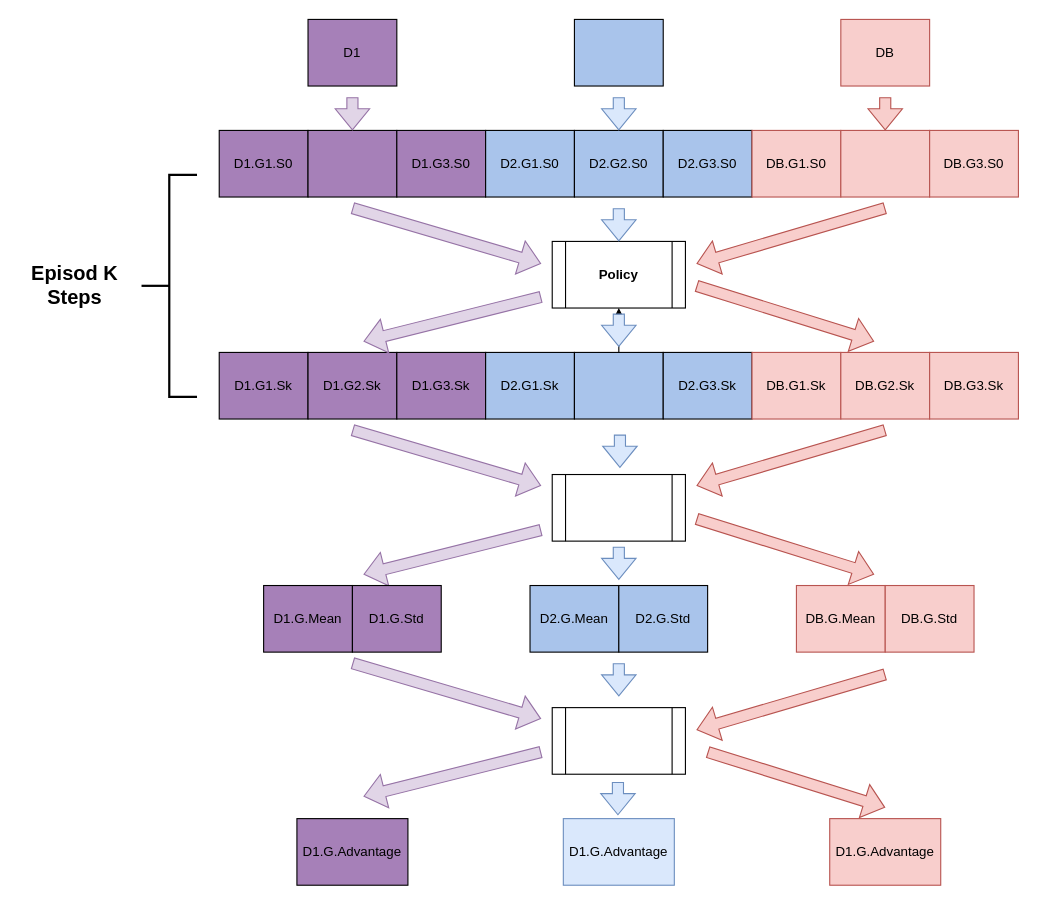
The diagram is 1038 pixels wide and 905 high, and some of its shapes have lost their labels. The shapes that lost their labels are listed below. From the top down, each one's box as (x1, y1, x2, y2) in pixels, then its label:
(573, 18, 663, 86): D2
(307, 129, 397, 197): D1.G2.S0
(840, 129, 930, 197): DB.G2.S0
(573, 351, 663, 419): D2.G2.Sk
(551, 473, 685, 541): Group Mean & StD
(551, 707, 685, 774): Group Advantage
